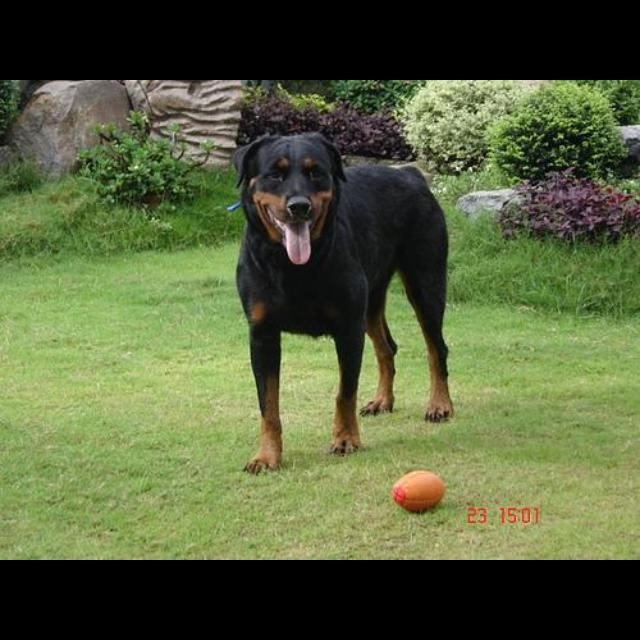rottweiler: (231, 131, 456, 475)
